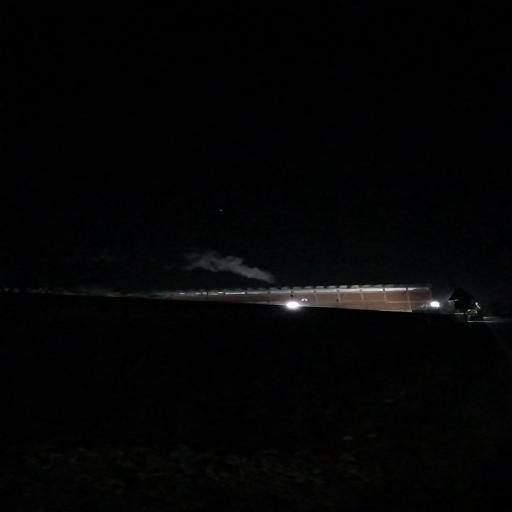leakage: (160, 246, 290, 288)
